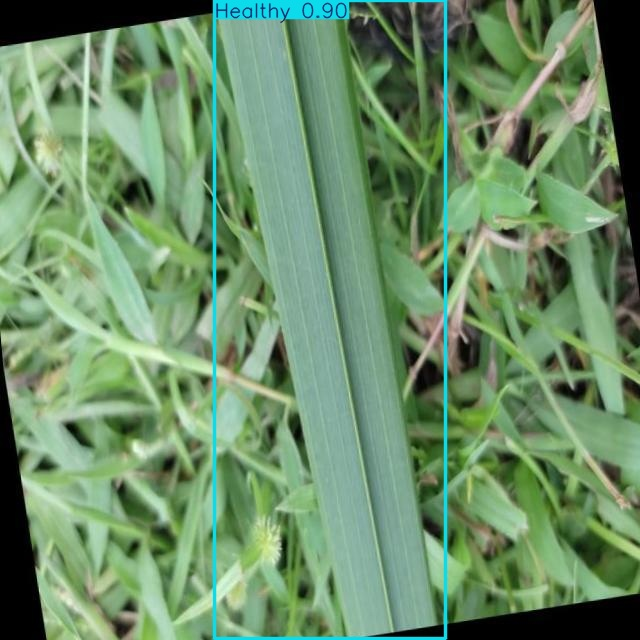Healthy: (215, 0, 446, 638)
